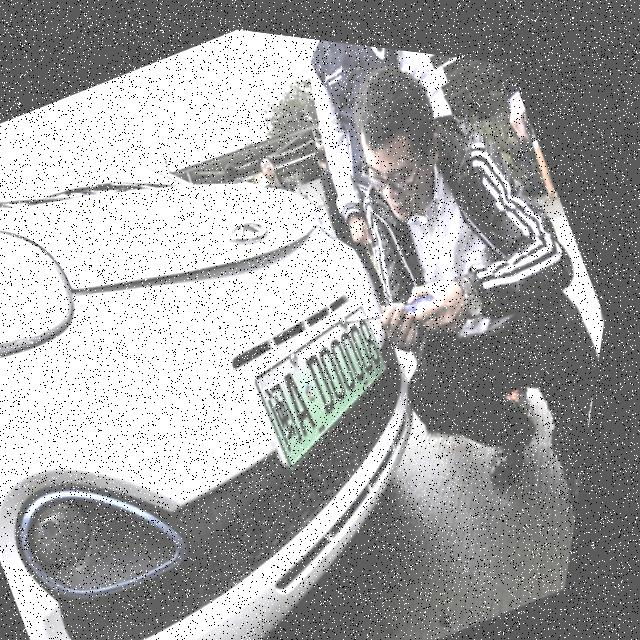license_plate: (234, 278, 436, 480)
